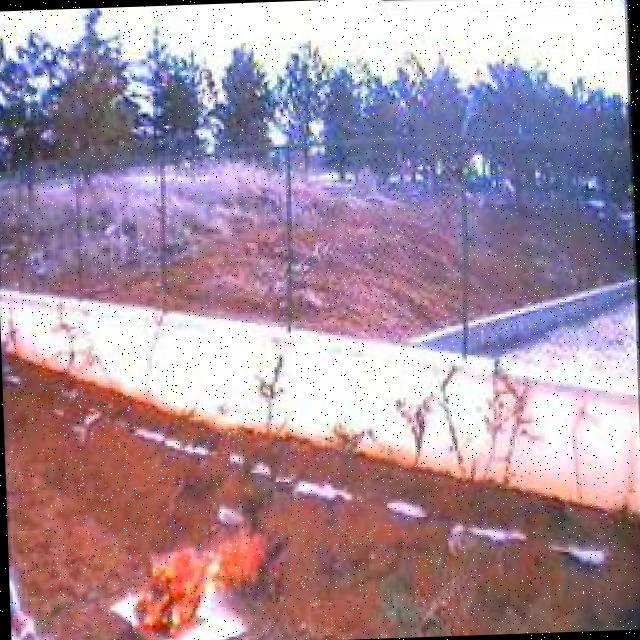fire: (128, 516, 267, 640)
